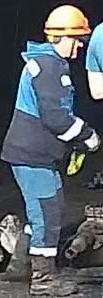helmet: (43, 4, 92, 36)
vest: (0, 40, 81, 174)
